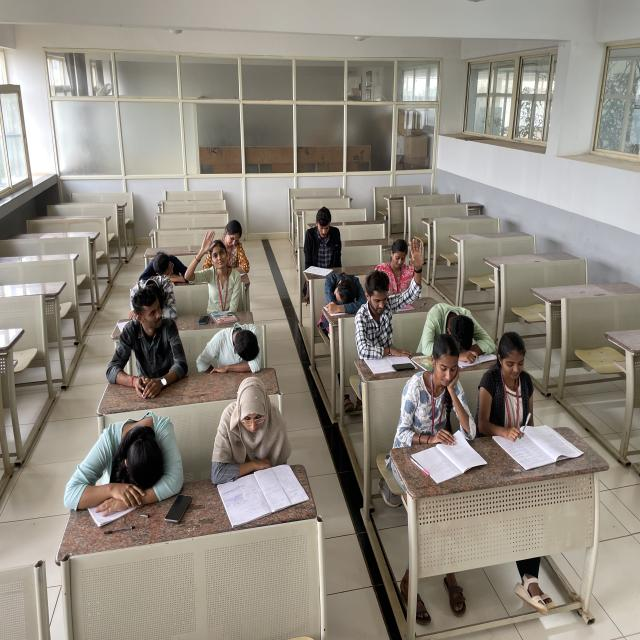Hand Rising: (352, 230, 424, 371), (184, 225, 243, 325)
Reading: (199, 372, 304, 531), (397, 334, 479, 484), (299, 203, 343, 291)
Sleeping: (56, 402, 192, 541), (192, 312, 278, 393), (412, 293, 506, 364), (316, 258, 372, 332), (140, 247, 193, 289), (132, 278, 178, 318)
Using Phone: (384, 234, 422, 307)
Writing: (471, 326, 567, 458)
